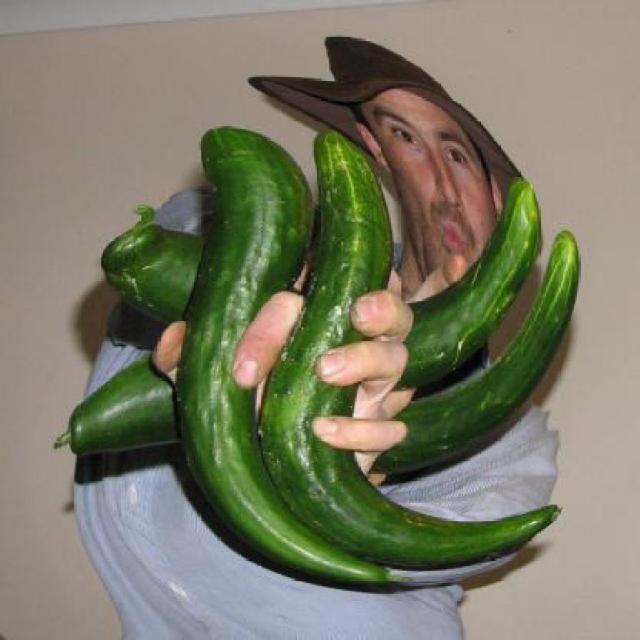Zucchini: (120, 72, 594, 598)
